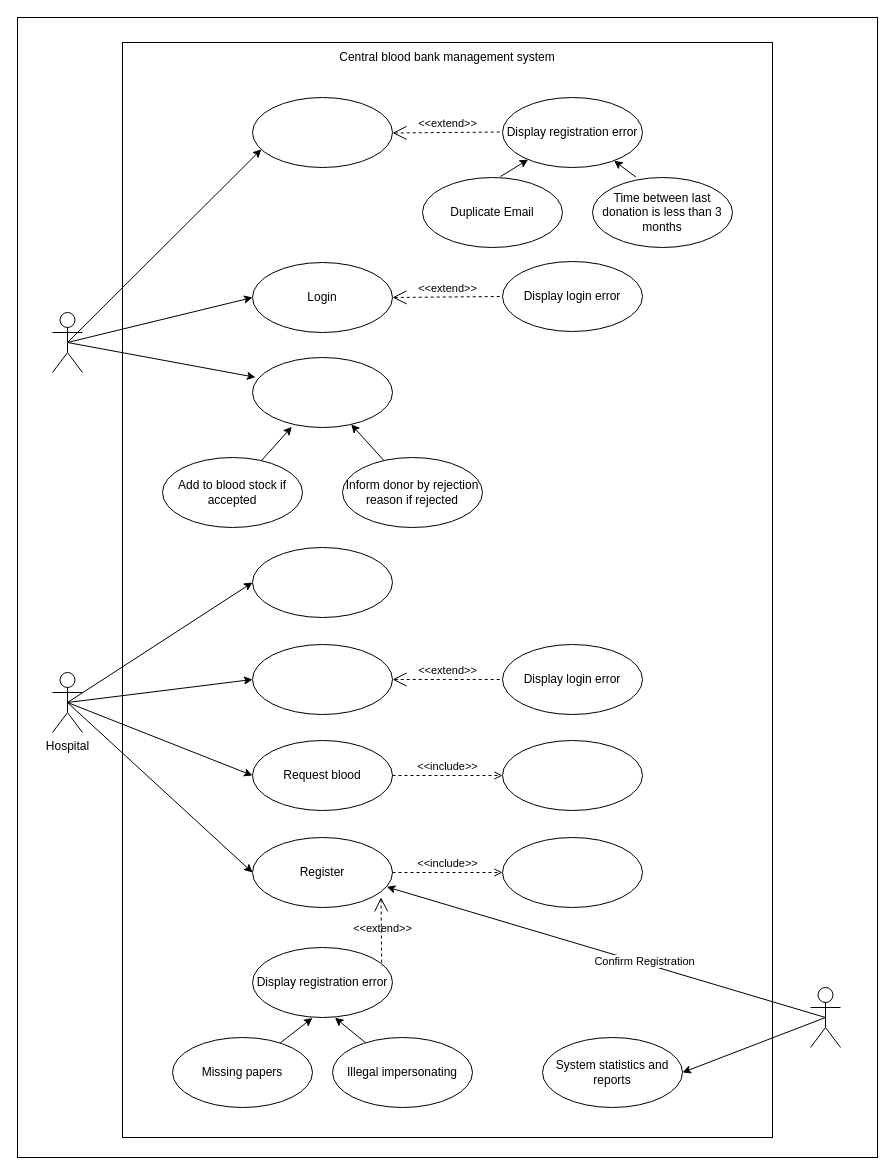
Some shapes in this 895 by 1175 pixel diagram are drawn without their labels. The shapes that lost their labels are listed below. From the top down, each one's centre as x and y in pixels, then its label:
At point 322,132: "Register donors".
At point 67,342: "Employee".
At point 322,392: "Manage donations".
At point 322,582: "Manage employees".
At point 322,679: "Log in".
At point 572,775: "Provide data: blood group, city, and patient status".
At point 572,872: "Provide legal papers".
At point 825,1017: "Admin".
